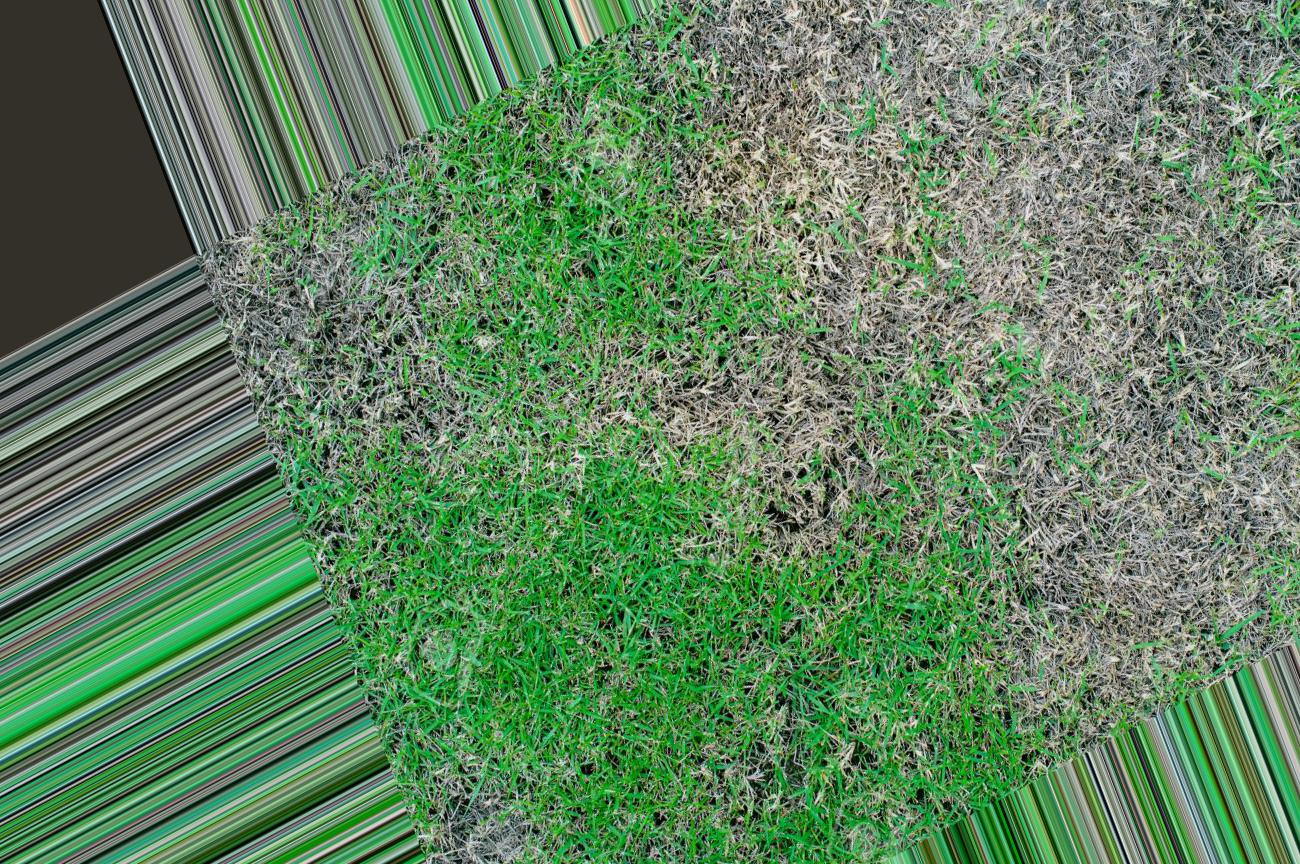patch: (732, 337, 1110, 594), (854, 101, 1195, 292), (269, 284, 565, 458), (976, 616, 1148, 733), (1150, 373, 1265, 519)
